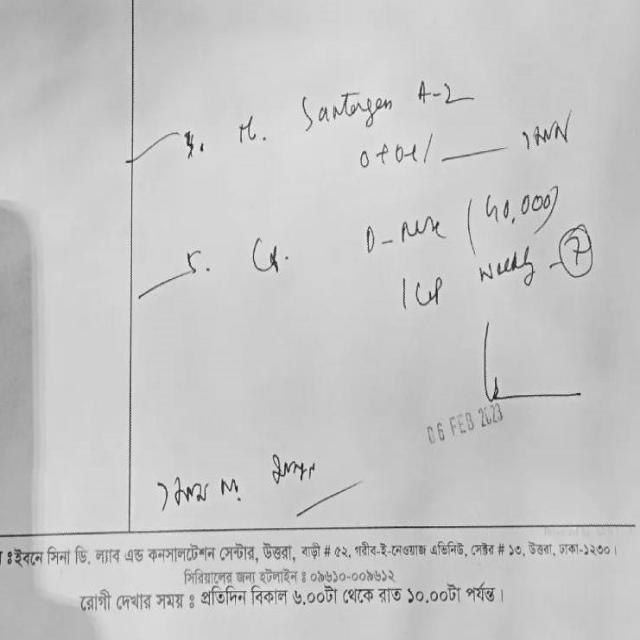medicine: (296, 75, 402, 133), (358, 208, 449, 256)
